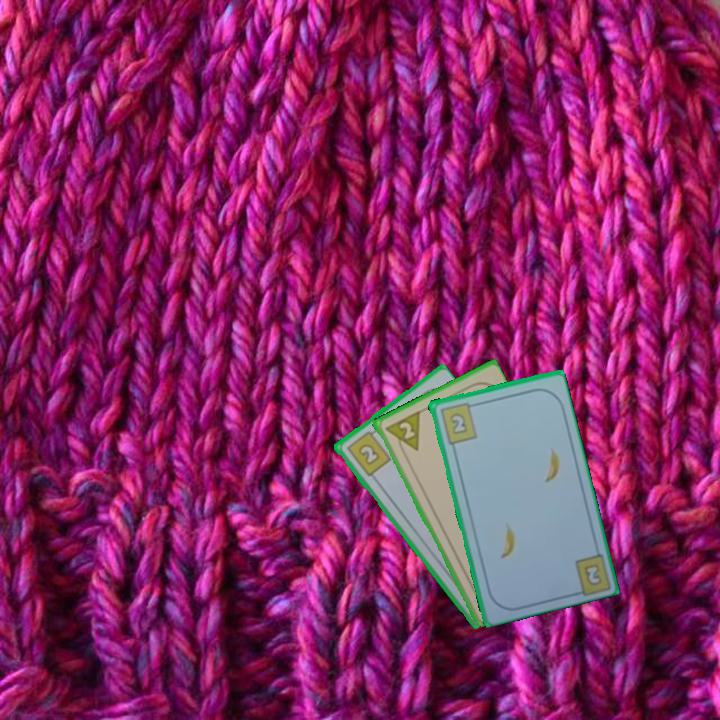2b: (343, 425, 393, 479), (436, 399, 479, 447), (580, 560, 605, 588)
2p: (381, 408, 423, 459)
